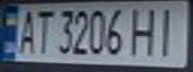0: (87, 7, 109, 56)
2: (72, 6, 90, 56)
3: (54, 6, 75, 56)
6: (103, 4, 130, 56)
A: (12, 6, 39, 55)
H: (124, 3, 163, 57)
I: (151, 3, 187, 57)
T: (33, 6, 57, 55)
